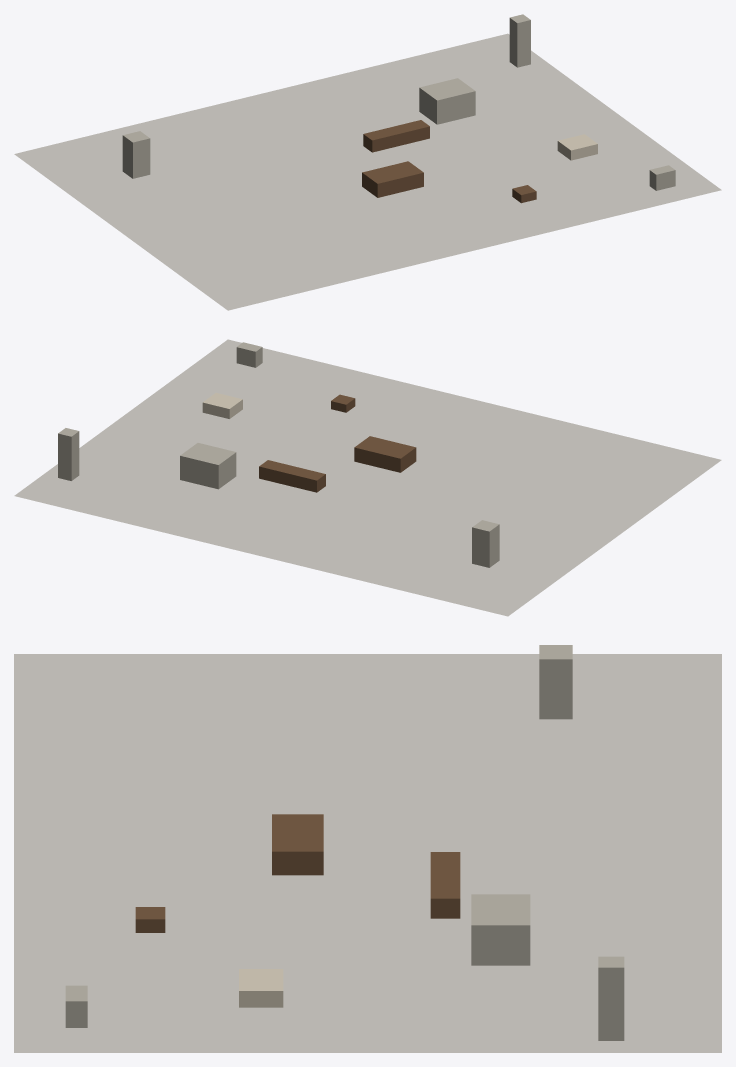
File: scene-sample-harbor.glb
3 renders of one model, top to bottom at view 1: azimuth 30°, elevation 25°; view 2: azimuth 150°, elevation 25°; view 3: azimuth 270°, elevation 25°, orthographic. The views are drawn at different scales.
Visible parts, largest first — view 1: render/ground, render/lod0/customs-house, render/lod0/fish-market, render/lod0/ropewalk, render/lod0/watch-tower, render/lod0/lighthouse, render/lod0/salt-store, render/lod0/quay-gate; view 2: render/ground, render/lod0/customs-house, render/lod0/fish-market, render/lod0/ropewalk, render/lod0/watch-tower, render/lod0/lighthouse, render/lod0/salt-store, render/lod0/quay-gate; view 3: render/ground, render/lod0/customs-house, render/lod0/fish-market, render/lod0/watch-tower, render/lod0/lighthouse, render/lod0/ropewalk, render/lod0/salt-store, render/lod0/quay-gate, render/lod0/net-menders-hut.
Boxes of the visible parts, x1,y1,x2,y2 form: render/ground: (14, 33, 721, 310); render/lod0/customs-house: (419, 78, 475, 124); render/lod0/fish-market: (362, 161, 423, 197); render/lod0/ropewalk: (363, 120, 429, 152); render/lod0/watch-tower: (122, 131, 150, 178); render/lod0/lighthouse: (509, 14, 530, 67); render/lod0/salt-store: (557, 134, 597, 160); render/lod0/quay-gate: (649, 165, 675, 190); render/ground: (14, 339, 721, 616); render/lod0/customs-house: (180, 443, 236, 489); render/lod0/fish-market: (354, 436, 416, 472); render/lod0/ropewalk: (259, 460, 325, 492); render/lod0/watch-tower: (472, 520, 499, 567); render/lod0/lighthouse: (58, 428, 79, 480); render/lod0/salt-store: (202, 393, 242, 418); render/lod0/quay-gate: (236, 342, 262, 367); render/ground: (14, 654, 721, 1052); render/lod0/customs-house: (471, 894, 530, 965); render/lod0/fish-market: (272, 814, 323, 875); render/lod0/watch-tower: (539, 645, 572, 719); render/lod0/lighthouse: (598, 956, 624, 1040); render/lod0/ropewalk: (430, 852, 460, 918); render/lod0/salt-store: (239, 969, 283, 1007); render/lod0/quay-gate: (65, 985, 87, 1027); render/lod0/net-menders-hut: (135, 907, 165, 932).
Size of what is drawn, in the model's own units: 256 by 22 by 192.
